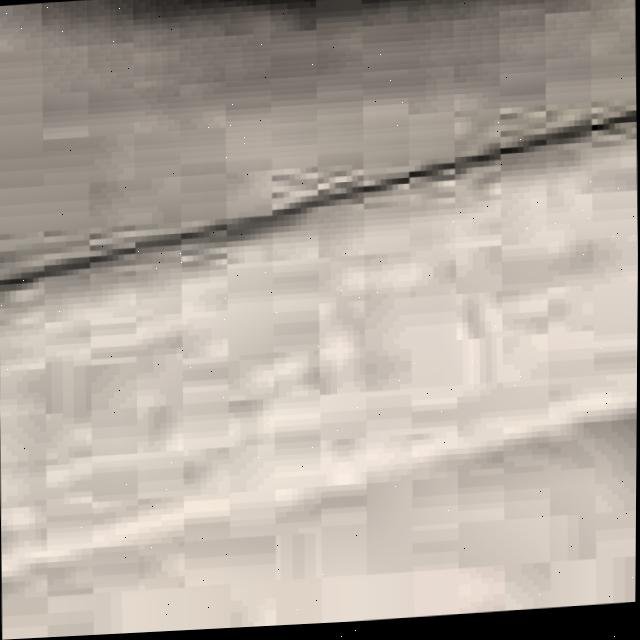paper: (0, 118, 638, 574)
